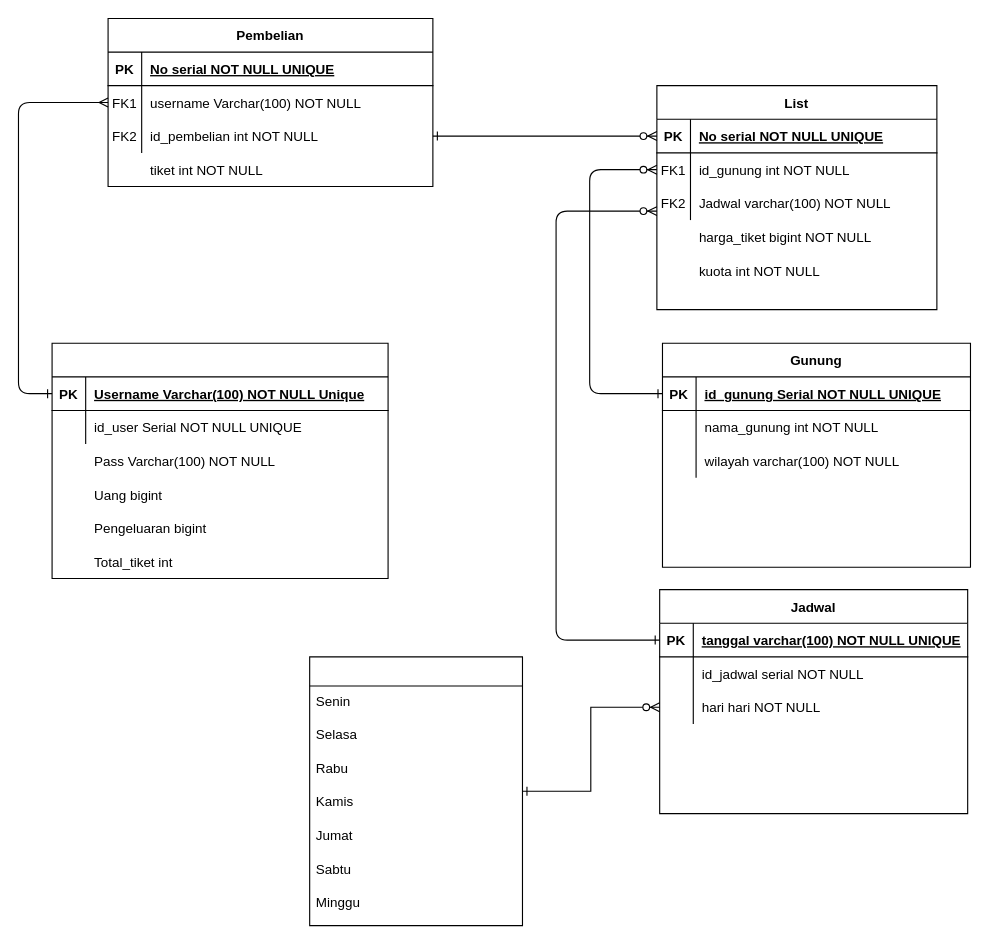
Some shapes in this 989 by 944 pixel diagram are drawn without their labels. The shapes that lost their labels are listed below. From the top down, each one's box as (x1, y1, x2, y2) in pixels, then its label:
(51, 342, 388, 578): Keanggotaan
(309, 656, 522, 926): Hari
